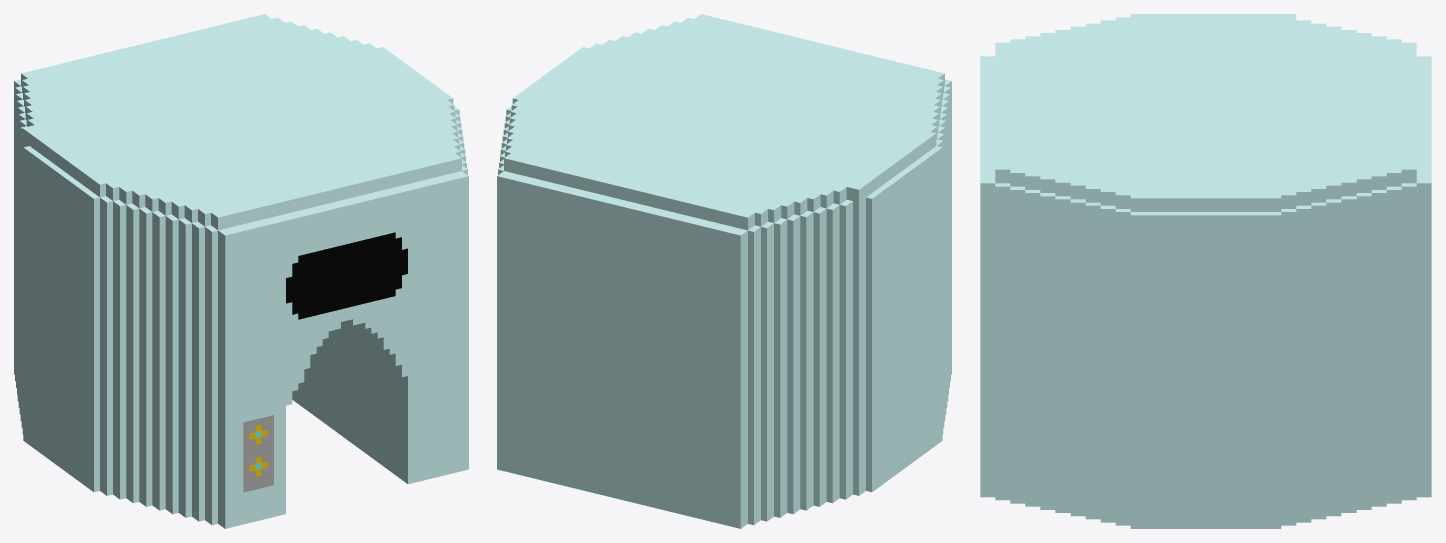
Rendered from Elevator With Door-1.obj.
3 views of the same model, side by side, from view 1: azimuth 30°, elevation 25°; view 2: azimuth 150°, elevation 25°; view 3: azimuth 270°, elevation 25° (orthographic). The views are drawn at different scales.
Size of the model in its own units: 6 by 4.8 by 6.
Materials: 1 (1 with a texture image).
